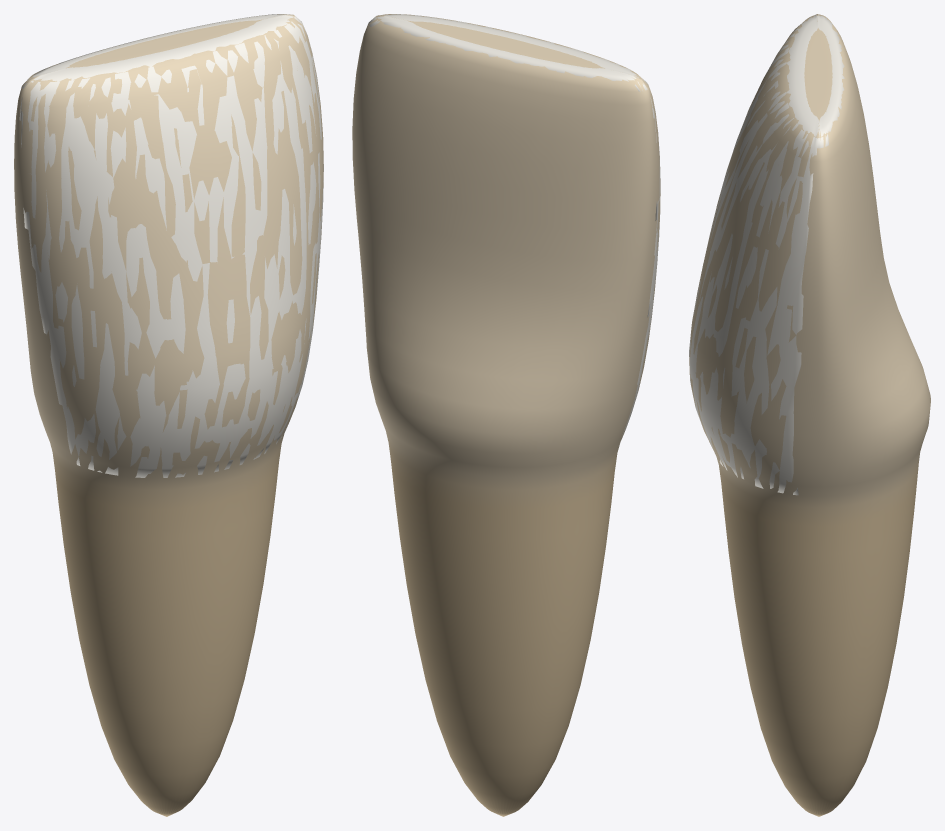
The model's file is veneer.glb.
3 renders of one model, left to right at view 1: azimuth 30°, elevation 25°; view 2: azimuth 150°, elevation 25°; view 3: azimuth 270°, elevation 25°, orthographic. The views are drawn at different scales.
Parts seen in each view (by area): view 1: tooth, veneer; view 2: tooth, veneer; view 3: tooth, veneer.
Part boxes in pixels (<box>): tooth: <box>14,14,323,816</box>; veneer: <box>19,14,323,477</box>; tooth: <box>352,14,660,816</box>; veneer: <box>368,14,660,446</box>; tooth: <box>689,14,930,816</box>; veneer: <box>689,15,844,495</box>.
Bounding box in the file's own units: 0.8068 × 2 × 0.5907.
